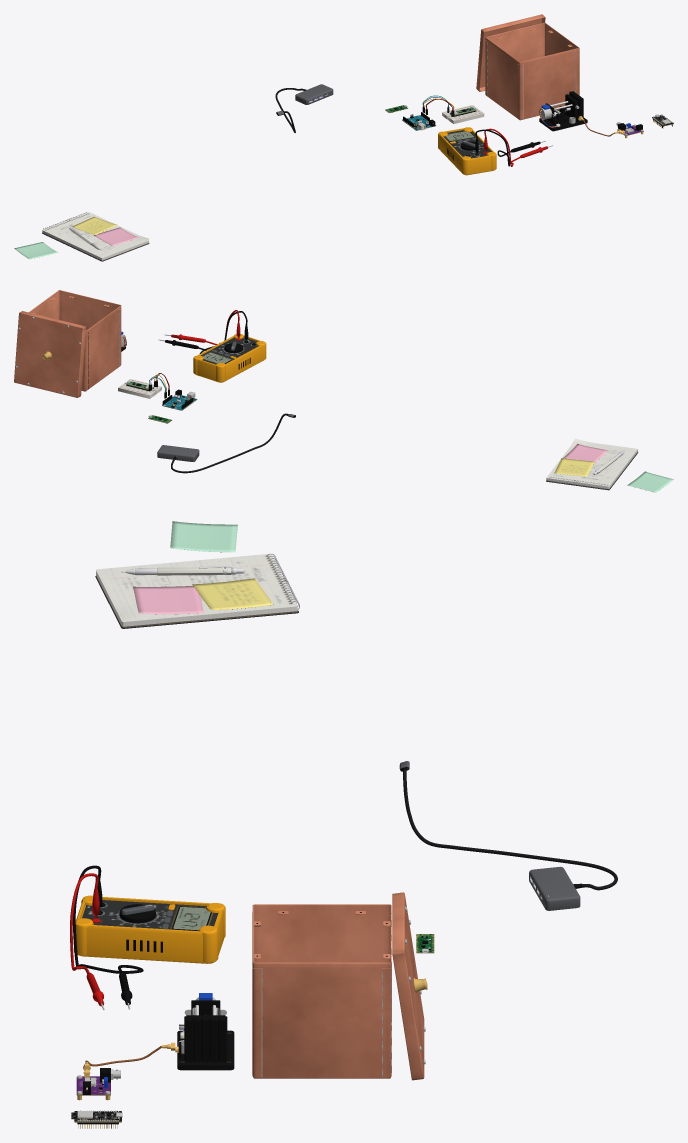
The model's file is electronics.glb.
3 renders of one model, top to bottom at view 1: azimuth 30°, elevation 25°; view 2: azimuth 150°, elevation 25°; view 3: azimuth 270°, elevation 25°, orthographic. The views are drawn at different scales.
Visible parts, largest first — view 1: elec_faraday_grp__mesh, elec_notes__mesh, elec_multimeter_grp__mesh, elec_stm_stage_grp__mesh, elec_lab_wiring_grp__mesh, elec_hub__mesh, elec_breadboard_grp__mesh, elec_uno__mesh; view 2: elec_faraday_grp__mesh, elec_notes__mesh, elec_multimeter_grp__mesh, elec_lab_wiring_grp__mesh, elec_hub__mesh, elec_breadboard_grp__mesh, elec_uno__mesh, elec_hub_cable__mesh; view 3: elec_faraday_grp__mesh, elec_notes__mesh, elec_multimeter_grp__mesh, elec_stm_stage_grp__mesh, elec_lab_wiring_grp__mesh, elec_hub__mesh, elec_hub_cable__mesh, elec_preamp_grp__mesh.
Part boxes in pixels (x1,y1,x2,y2): elec_faraday_grp__mesh: [476, 14, 579, 120]; elec_notes__mesh: [14, 212, 149, 261]; elec_multimeter_grp__mesh: [438, 127, 496, 175]; elec_stm_stage_grp__mesh: [539, 91, 587, 131]; elec_lab_wiring_grp__mesh: [422, 95, 621, 166]; elec_hub__mesh: [295, 84, 333, 104]; elec_breadboard_grp__mesh: [442, 105, 484, 123]; elec_uno__mesh: [402, 112, 436, 130]; elec_faraday_grp__mesh: [14, 290, 121, 397]; elec_notes__mesh: [546, 438, 673, 492]; elec_multimeter_grp__mesh: [193, 334, 266, 382]; elec_lab_wiring_grp__mesh: [148, 310, 248, 398]; elec_hub__mesh: [157, 445, 199, 461]; elec_breadboard_grp__mesh: [118, 379, 161, 398]; elec_uno__mesh: [162, 389, 197, 410]; elec_hub_cable__mesh: [171, 413, 295, 473]; elec_faraday_grp__mesh: [252, 892, 427, 1080]; elec_notes__mesh: [95, 521, 299, 628]; elec_multimeter_grp__mesh: [74, 895, 225, 963]; elec_stm_stage_grp__mesh: [175, 993, 234, 1070]; elec_lab_wiring_grp__mesh: [70, 865, 175, 1070]; elec_hub__mesh: [529, 866, 582, 910]; elec_hub_cable__mesh: [399, 761, 617, 890]; elec_preamp_grp__mesh: [76, 1068, 120, 1100].
Size of the model in its own units: 1.66 by 0.1665 by 0.6364.
Materials: 4 (4 with a texture image).
